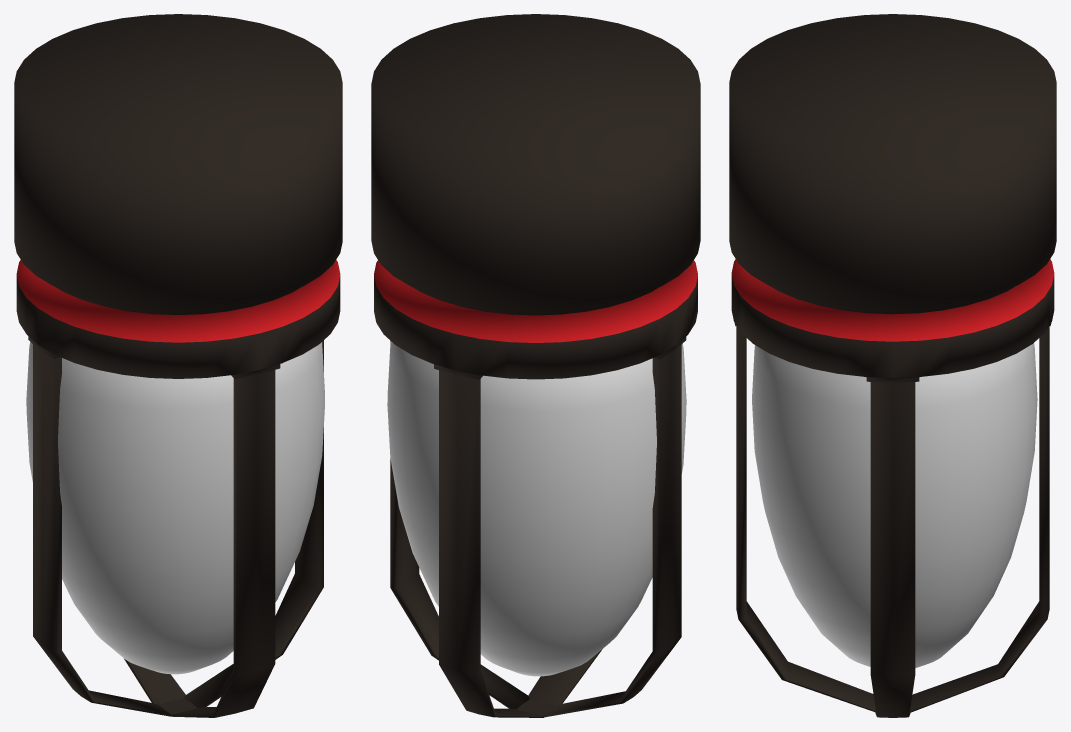
The model's file is lampada.fbx.
3 renders of one model, left to right at view 1: azimuth 30°, elevation 25°; view 2: azimuth 150°, elevation 25°; view 3: azimuth 270°, elevation 25°, orthographic.
Visible parts, largest first — view 1: Cylinder, Sphere; view 2: Cylinder, Sphere; view 3: Cylinder, Sphere.
Part boxes in pixels (left/top/right/bottom): Cylinder: left=14, top=14, right=342, bottom=717; Sphere: left=26, top=341, right=324, bottom=674; Cylinder: left=371, top=14, right=700, bottom=717; Sphere: left=387, top=341, right=686, bottom=676; Cylinder: left=729, top=14, right=1056, bottom=717; Sphere: left=752, top=343, right=1037, bottom=668.
Bounding box in the file's own units: 147 × 308 × 147.
